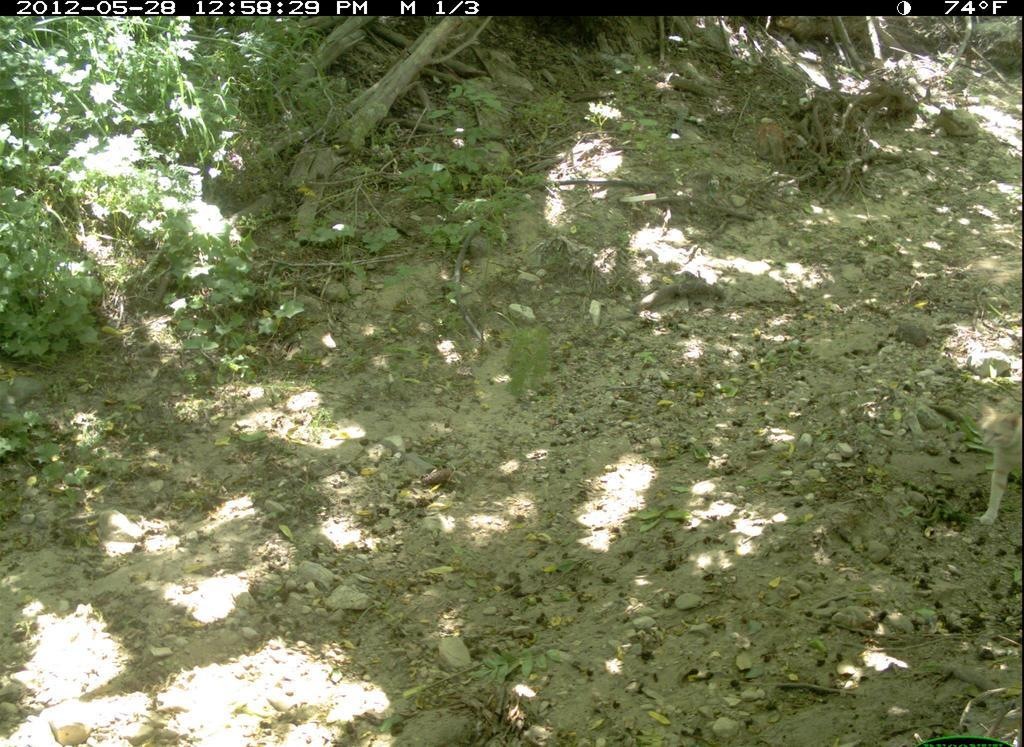cat: (966, 391, 1022, 532)
